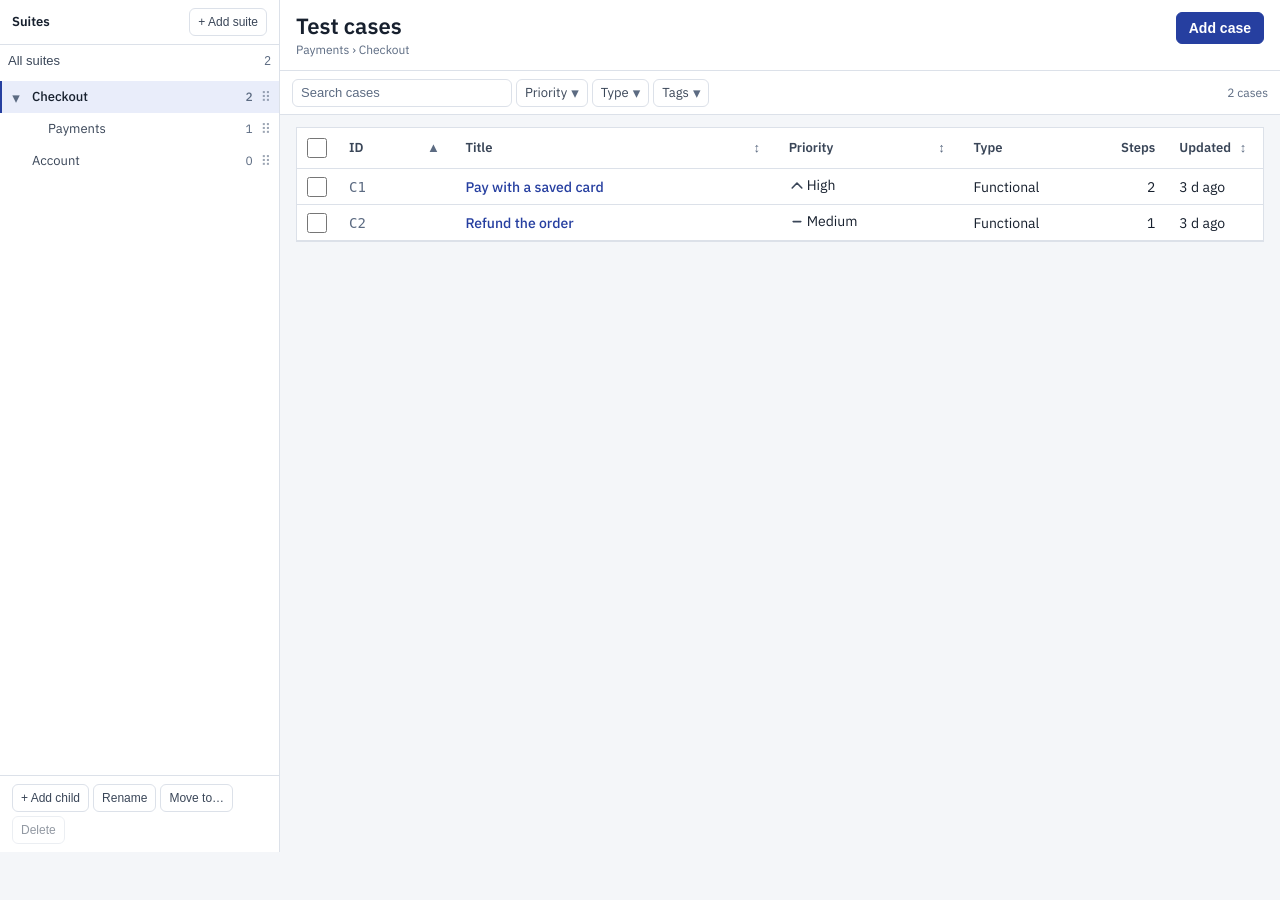
Test: cases screen › asks before closing a New case form that has input
Check: the button with aria-label "Open C1" is shown, box [465,176,604,196]
Click the button "Add case" at x=1220, y=28, box [1176,12,1264,44]
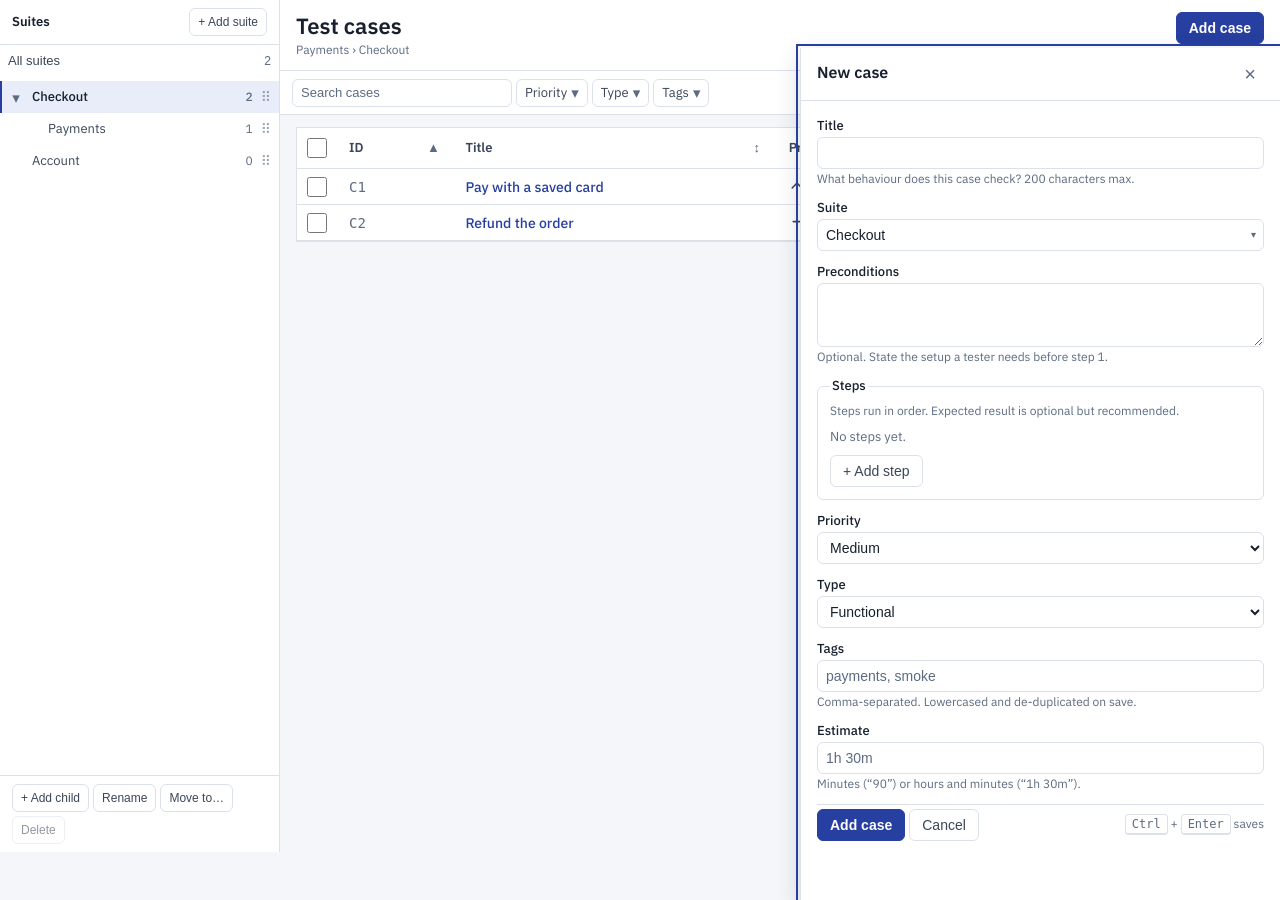
Type "Checkout flow" into the field labelled "Title" at x=1040, y=153, box [817,137,1264,169]
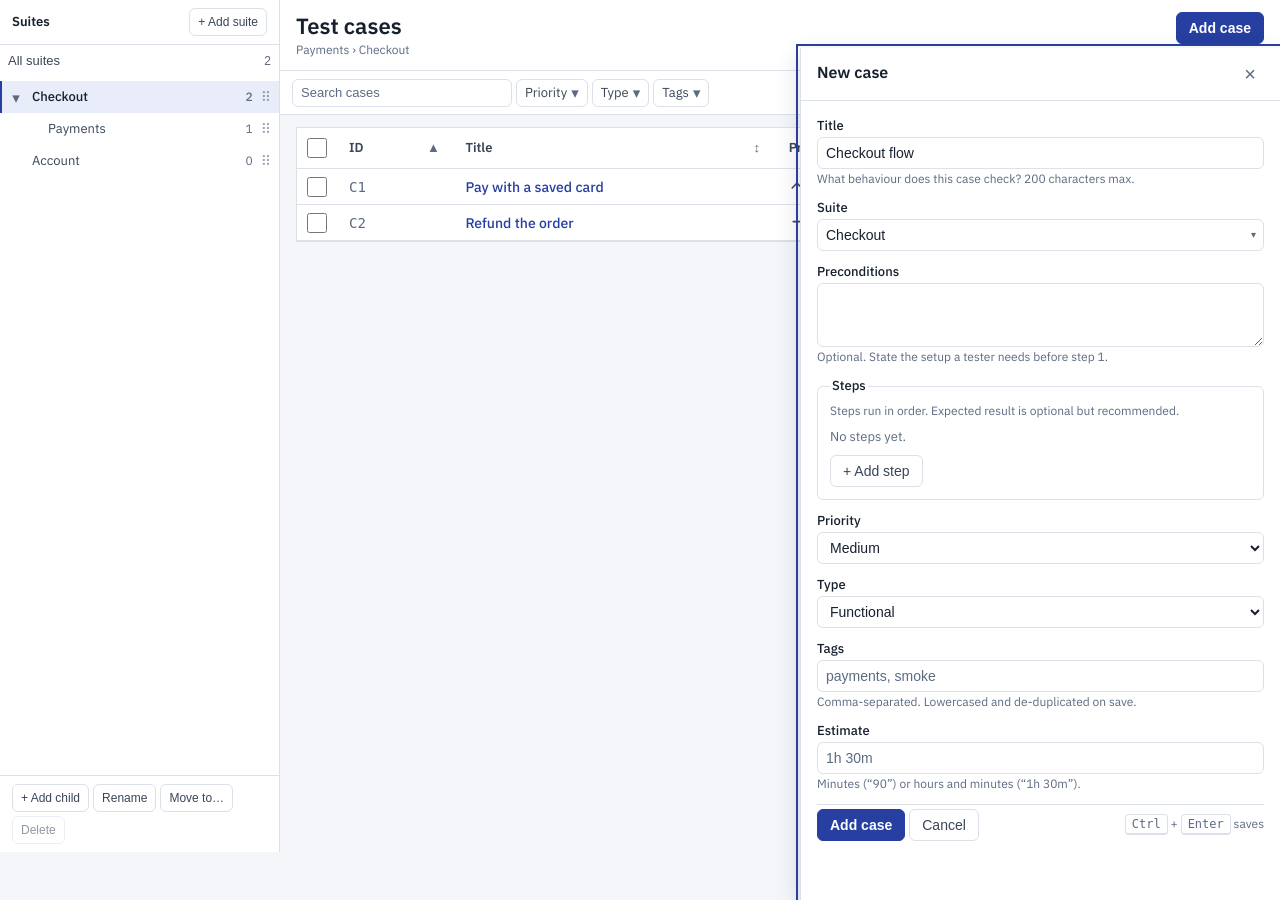
Click the button named "Close" at x=1250, y=74, box [1236,60,1264,88]
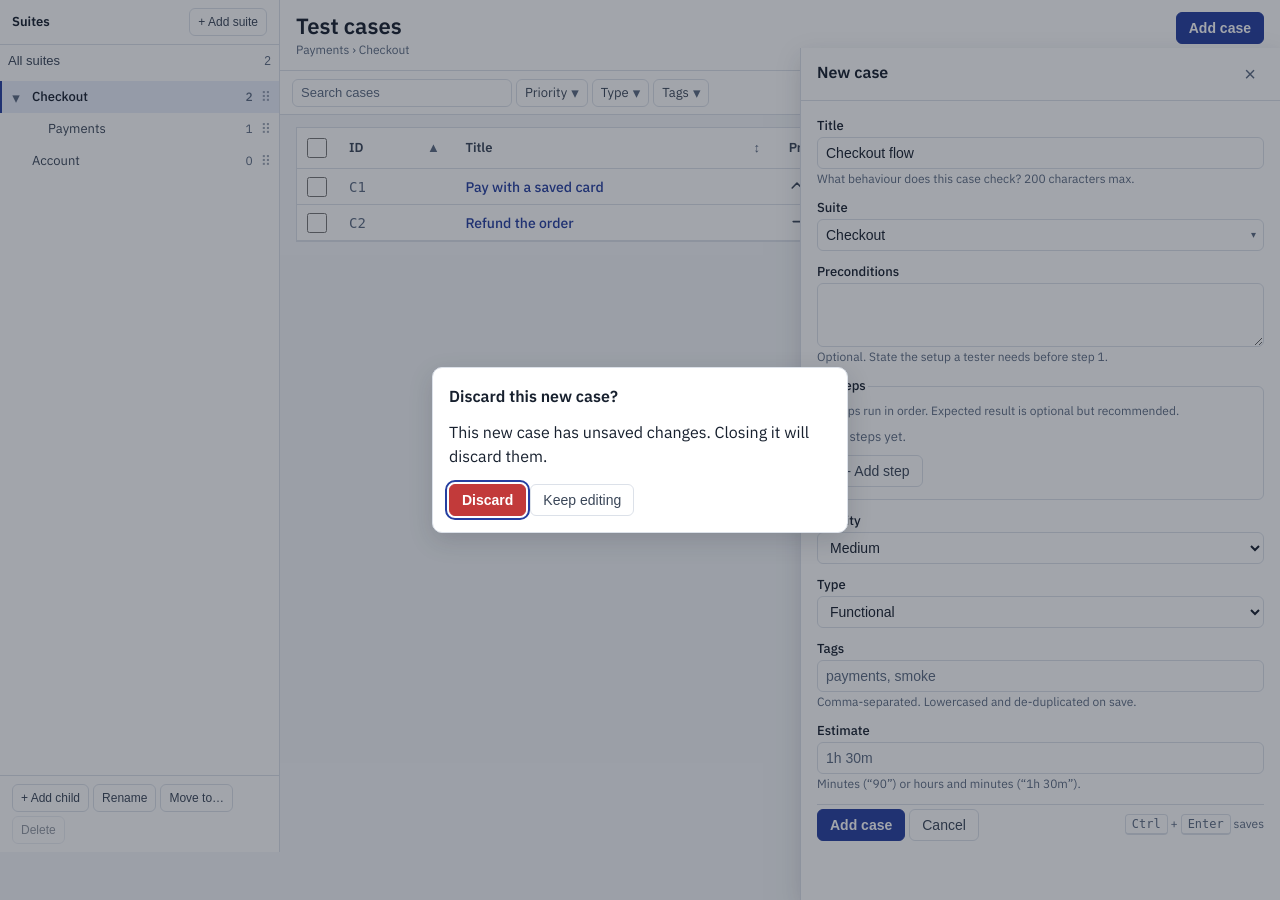
Check: the dialog "New case" is shown, box [800,48,1279,899]
Note: ...and "Keep editing" leaves it, input intact.
Click the button "Keep editing" at x=582, y=500, box [530,484,634,516]
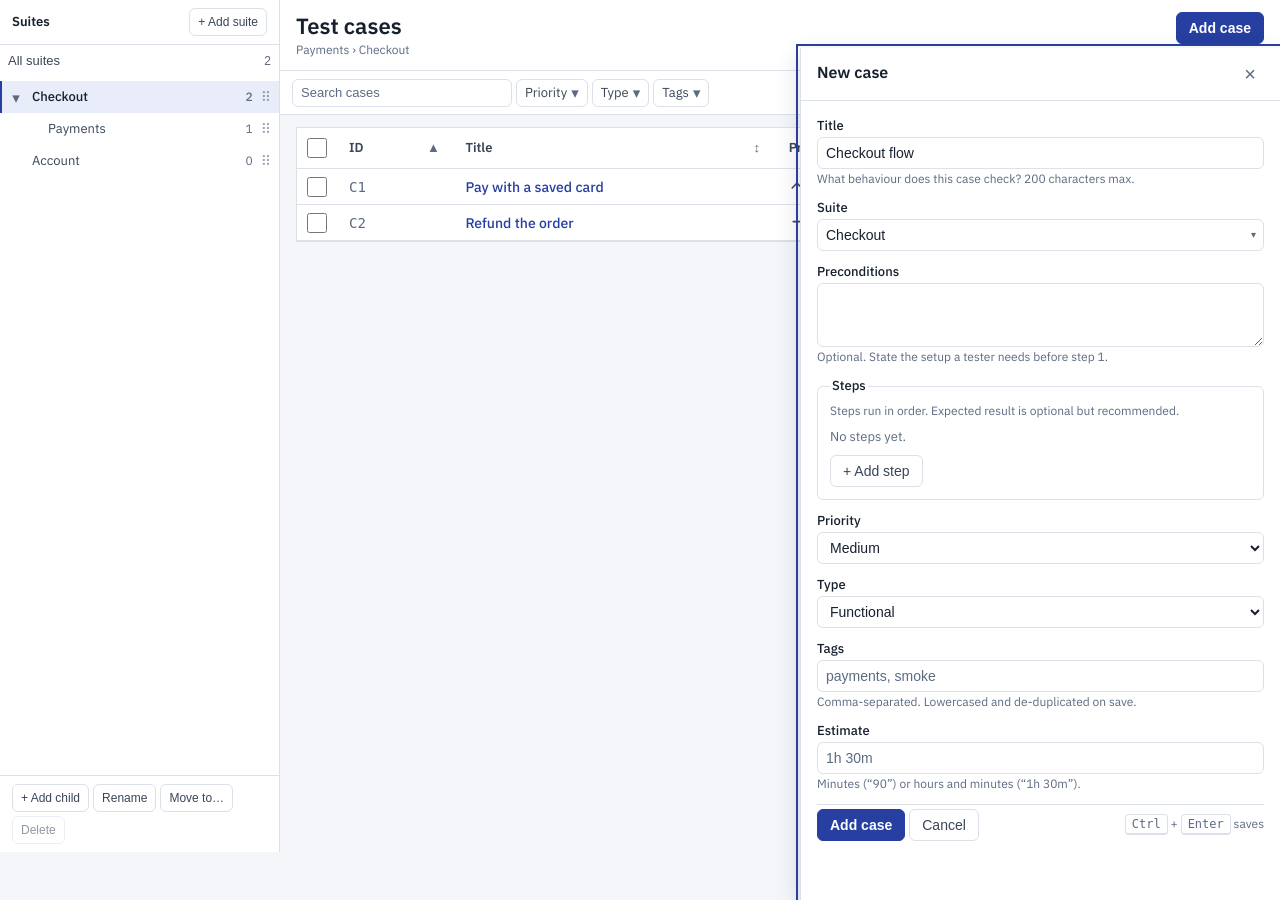
Check: the dialog "New case" is shown, box [800,48,1279,899]
Check: the heading "Discard this new case?" is gone
